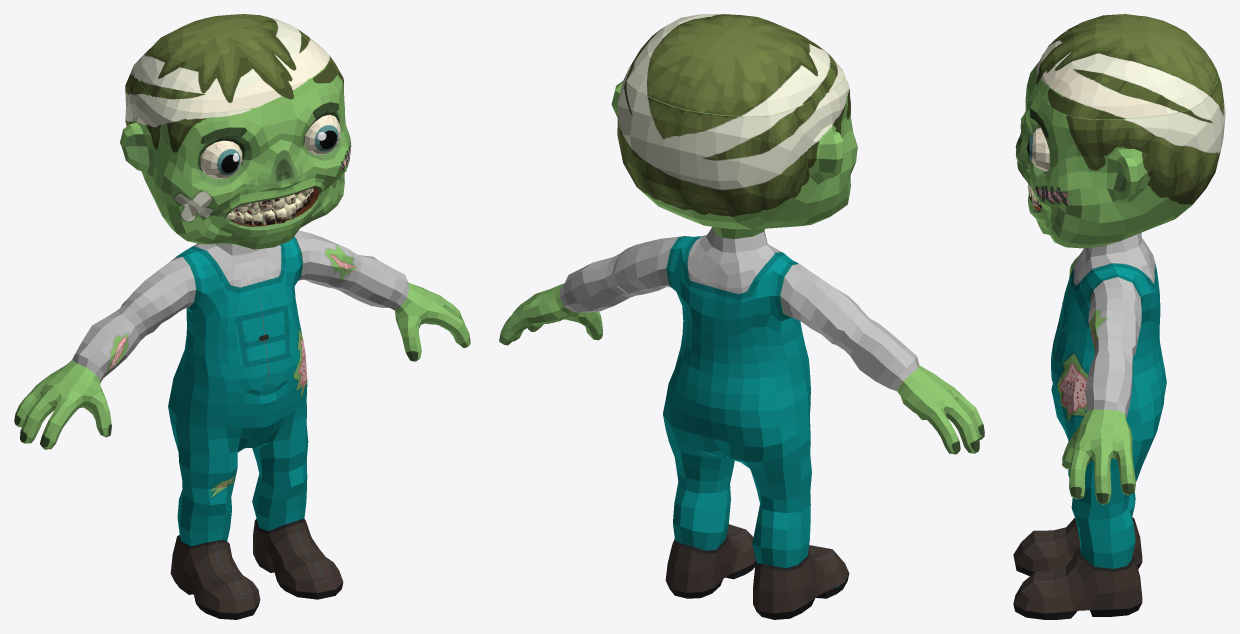
Rendered from Zombi2_pokras.fbx.
The picture shows the model from 3 angles, left to right: view 1: azimuth 30°, elevation 25°; view 2: azimuth 150°, elevation 25°; view 3: azimuth 270°, elevation 25°; orthographic projection. The views are drawn at different scales.
Parts seen in each view (by area): view 1: Zombi2_my_obj_for_uv:body, Zombi2_my_obj_for_uv:cup_of_head, Zombi2_my_obj_for_uv:hand_r, Zombi2_my_obj_for_uv:hand_l, Zombi2_my_obj_for_uv:eye_L001; view 2: Zombi2_my_obj_for_uv:body, Zombi2_my_obj_for_uv:cup_of_head, Zombi2_my_obj_for_uv:hand_r, Zombi2_my_obj_for_uv:hand_l; view 3: Zombi2_my_obj_for_uv:body, Zombi2_my_obj_for_uv:cup_of_head, Zombi2_my_obj_for_uv:hand_l, Zombi2_my_obj_for_uv:eye_L001.
Boxes of the visible parts, x1,y1,x2,y2 form: Zombi2_my_obj_for_uv:body: (120, 65, 351, 619); Zombi2_my_obj_for_uv:cup_of_head: (134, 14, 338, 112); Zombi2_my_obj_for_uv:hand_r: (14, 257, 195, 449); Zombi2_my_obj_for_uv:hand_l: (294, 230, 470, 361); Zombi2_my_obj_for_uv:eye_L001: (200, 114, 340, 178); Zombi2_my_obj_for_uv:body: (611, 64, 857, 619); Zombi2_my_obj_for_uv:cup_of_head: (626, 14, 844, 116); Zombi2_my_obj_for_uv:hand_r: (780, 264, 984, 454); Zombi2_my_obj_for_uv:hand_l: (499, 236, 685, 345); Zombi2_my_obj_for_uv:body: (1013, 61, 1225, 619); Zombi2_my_obj_for_uv:cup_of_head: (1035, 14, 1218, 119); Zombi2_my_obj_for_uv:hand_l: (1062, 277, 1141, 504); Zombi2_my_obj_for_uv:eye_L001: (1027, 127, 1049, 171).
Size of the model in its own units: 44.47 by 51.72 by 17.95.
